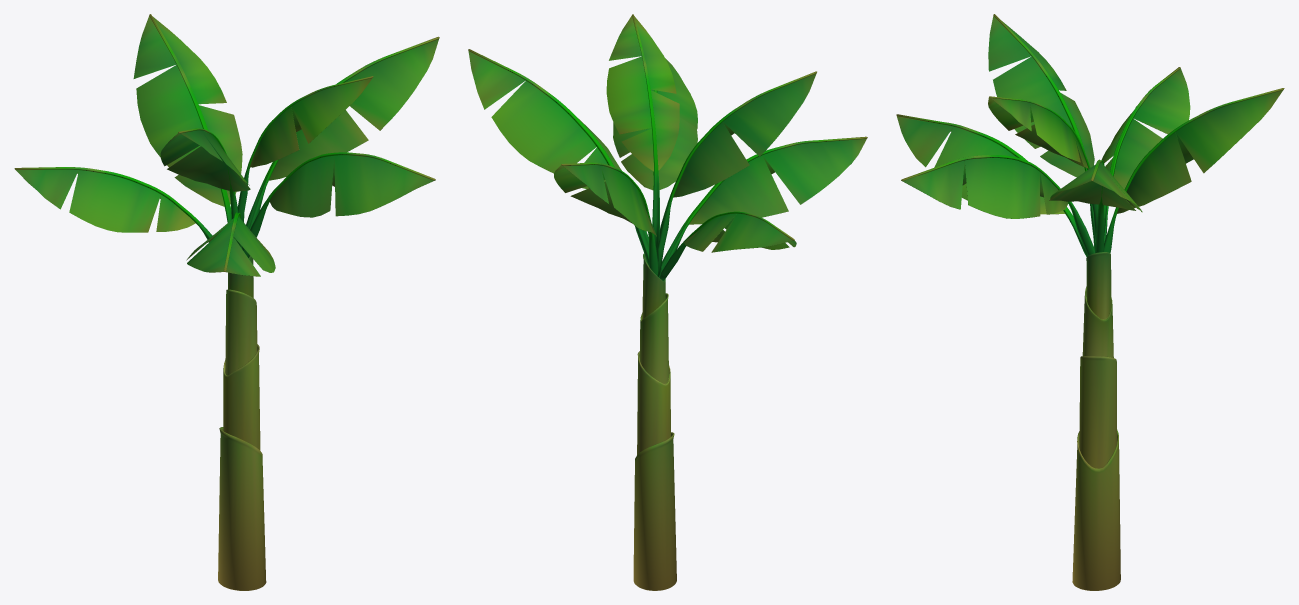
File: SmallPlant.fbx
The picture shows the model from 3 angles, left to right: view 1: azimuth 30°, elevation 25°; view 2: azimuth 150°, elevation 25°; view 3: azimuth 270°, elevation 25°; orthographic projection. The views are drawn at different scales.
Visible parts, largest first — view 1: SmallPlant; view 2: SmallPlant; view 3: SmallPlant.
Part boxes in pixels (<box>): SmallPlant: <box>14,14,439,590</box>; SmallPlant: <box>468,14,867,590</box>; SmallPlant: <box>896,14,1284,590</box>.
Bounding box in the file's own units: 93.44 × 123 × 83.03.
1 material, 1 textured.
